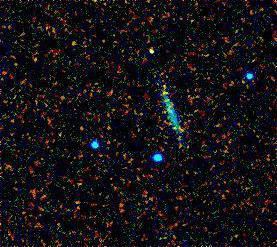star: (137, 36, 167, 66)
